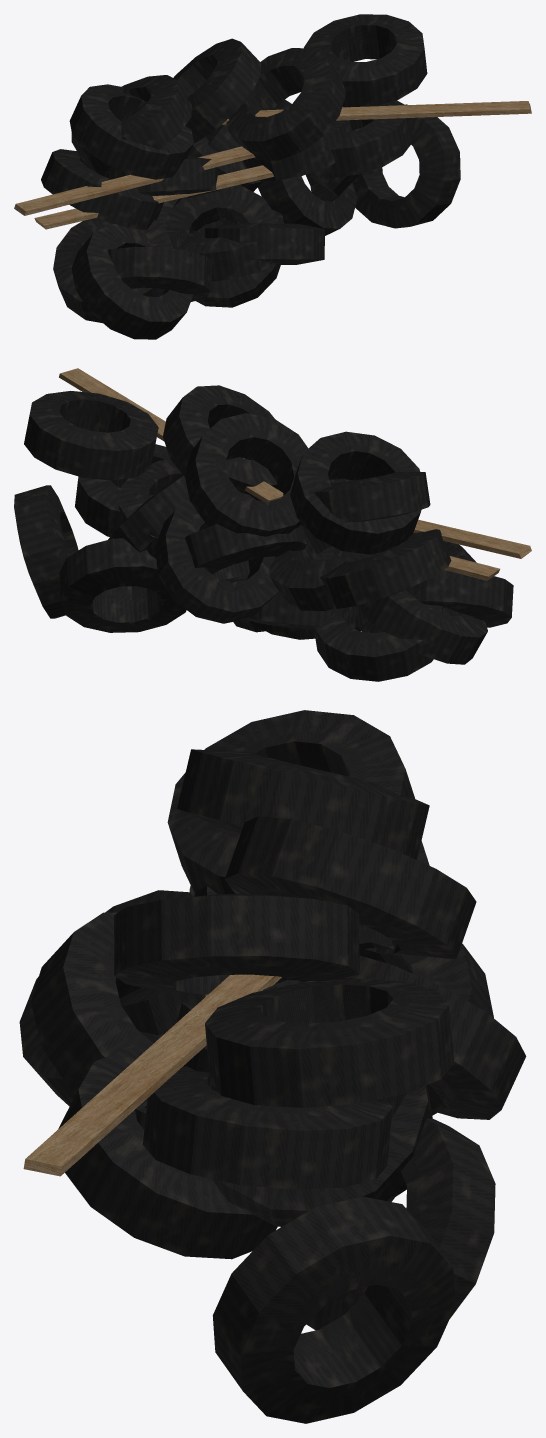
File: S1U_TyreWall_3m.fbx
3 renders of one model, top to bottom at view 1: azimuth 30°, elevation 25°; view 2: azimuth 150°, elevation 25°; view 3: azimuth 270°, elevation 25°, orthographic. The views are drawn at different scales.
Visible parts, largest first — view 1: S1U_TyreWall_3m; view 2: S1U_TyreWall_3m; view 3: S1U_TyreWall_3m.
Boxes of the visible parts, x1,y1,x2,y2 form: S1U_TyreWall_3m: (14,14,531,339); S1U_TyreWall_3m: (14,368,531,681); S1U_TyreWall_3m: (19,710,526,1423).
Bounding box in the file's own units: 3.2 × 1.41 × 1.49.
